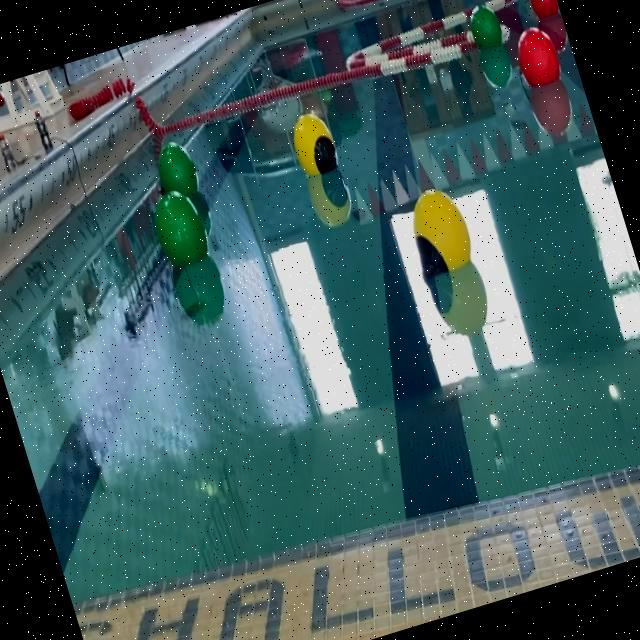buoy: (400, 179, 480, 282), (147, 184, 219, 274), (286, 106, 344, 182), (510, 21, 566, 92), (150, 136, 205, 204), (465, 2, 507, 54), (522, 0, 561, 23)
